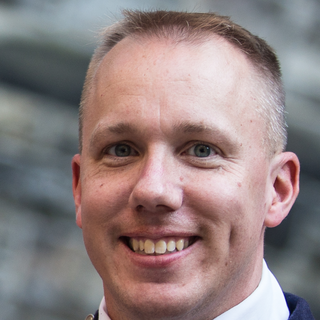eye: (178, 139, 228, 166), (97, 138, 144, 165)
